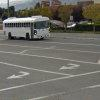Bus: (2, 15, 52, 42)
